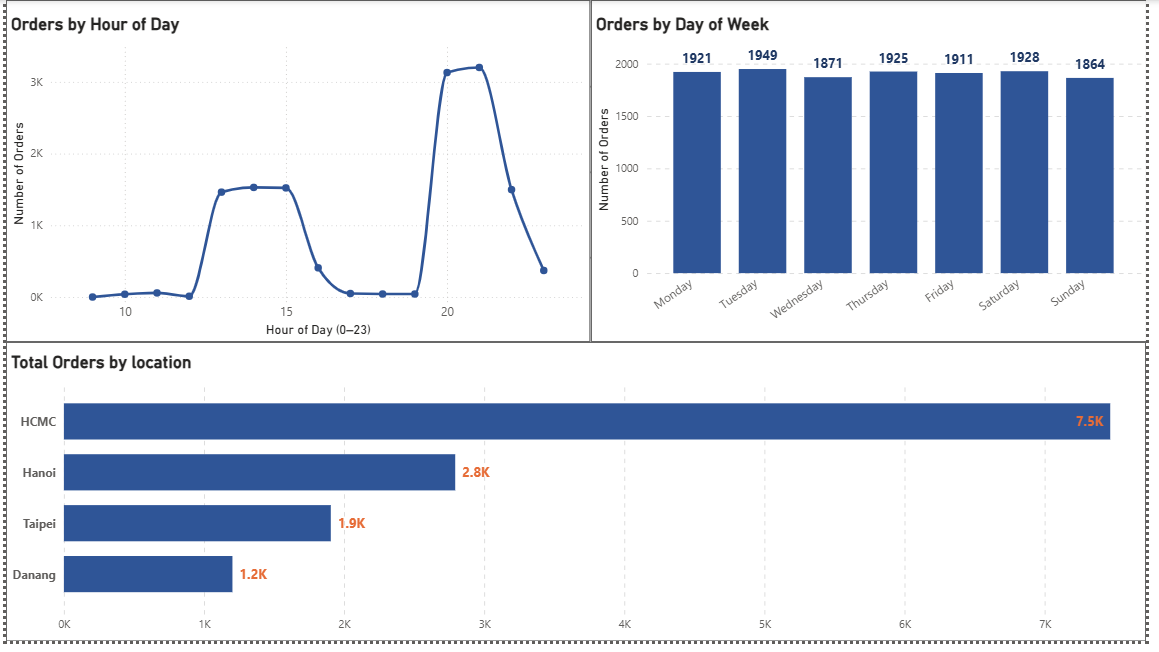

The page's visual inventory and layout, read from the dashboard file:
{"tool":"powerbi","page":{"name":"3 - Order Patterns","canvas":[1280,720],"ordinal":2},"visuals":[{"type":"lineChart","title":"Orders by Hour of Day","fields":{"Category":["Fact Orders.order_hour"],"Y":["Measures – Sales.Total Orders"]},"box":[0,0,656,384],"z":0},{"type":"columnChart","title":"Orders by Day of Week","fields":{"Category":["Fact Orders.order_day_name"],"Y":["Measures – Sales.Total Orders"]},"box":[656,0,624,384],"z":1000},{"type":"barChart","fields":{"Category":["Fact Orders.location"],"Y":["Measures – Sales.Total Orders"]},"box":[0,384,1280,336],"z":2000}]}

Visuals, with their boxes in screenshot pixels (x1, y1, x2, y2), scaled from the page's 1280x720 canvas onto the 1159x652 screenshot:
"Orders by Hour of Day" lineChart: 0:0:594:348
"Orders by Day of Week" columnChart: 594:0:1158:348
barChart - Fact Orders.location x Measures – Sales.Total Orders: 0:348:1158:651
